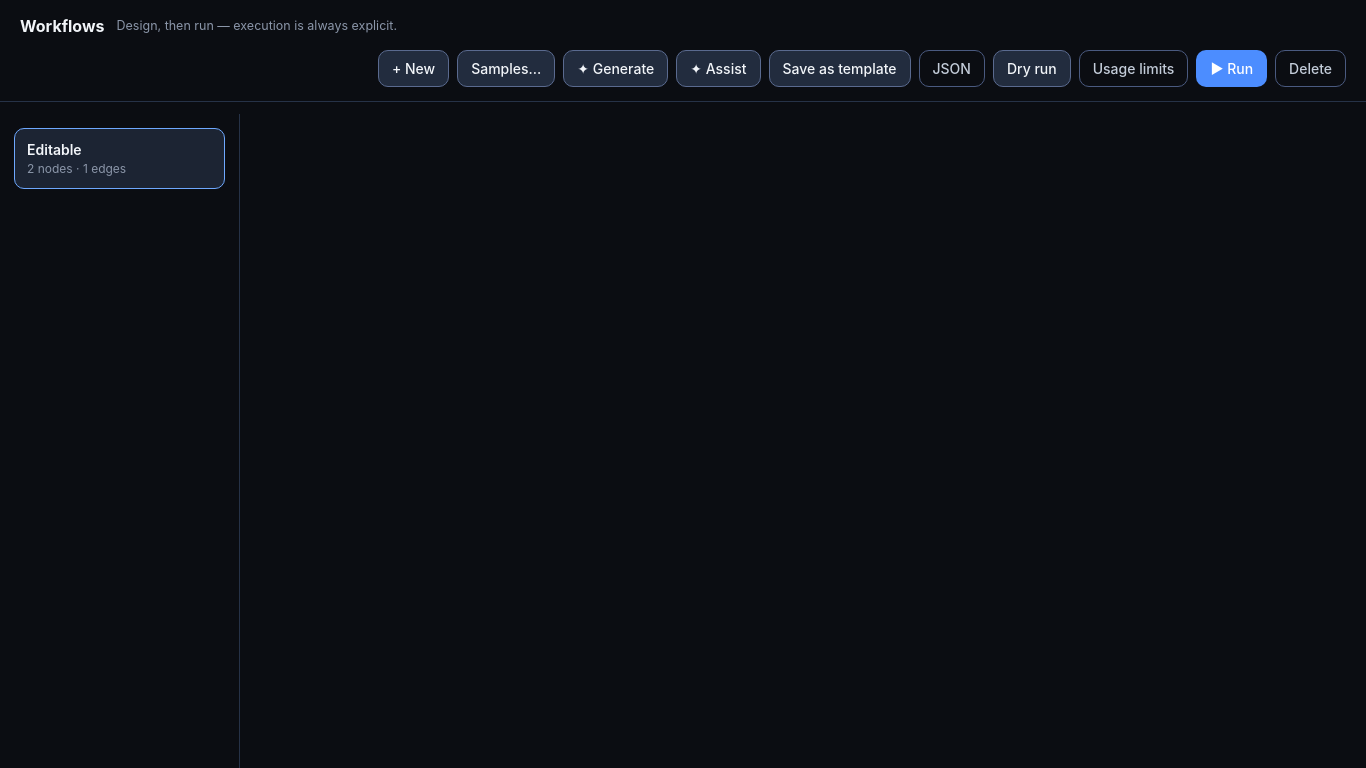
Test: opens simple JSON and preserves the definition through advanced conversion
What coordinates should you click on to do the following:
click the button "JSON"
I would click on:
 (952, 68)
Its box is 918,50 -> 985,87.
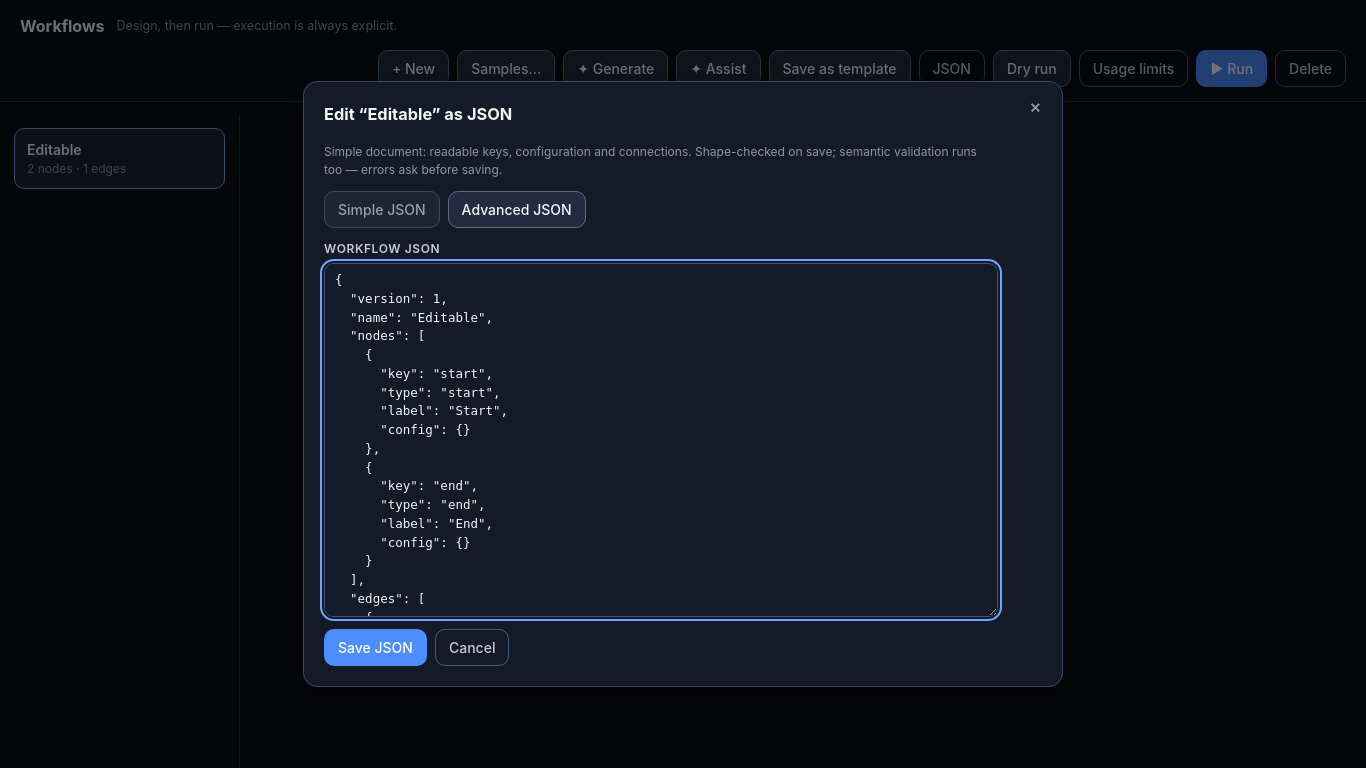
What coordinates should you click on to do the following:
click the button "Advanced JSON"
I would click on:
 (517, 210)
Its box is 448,191 -> 586,228.
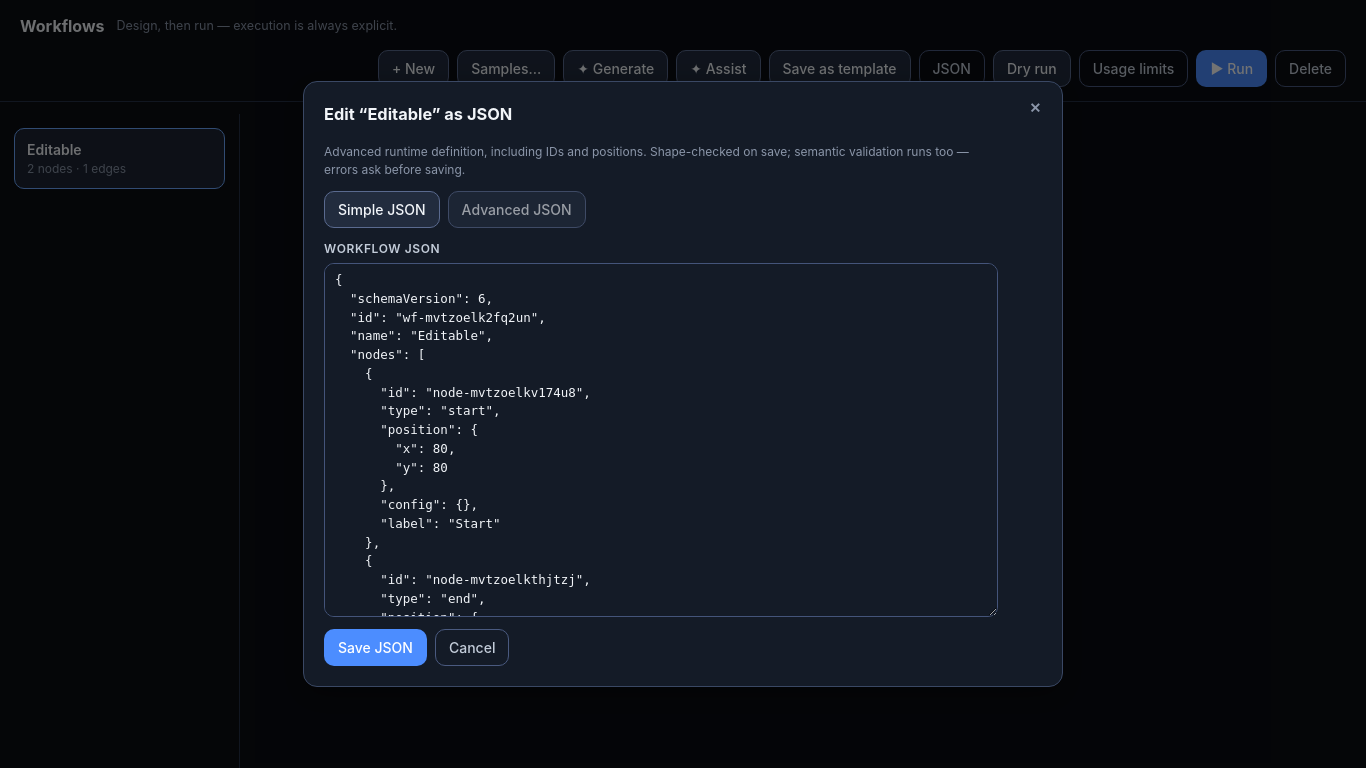
What coordinates should you click on to do the following:
click the button "Save JSON"
I would click on:
 (375, 647)
Its box is 324,629 -> 427,666.
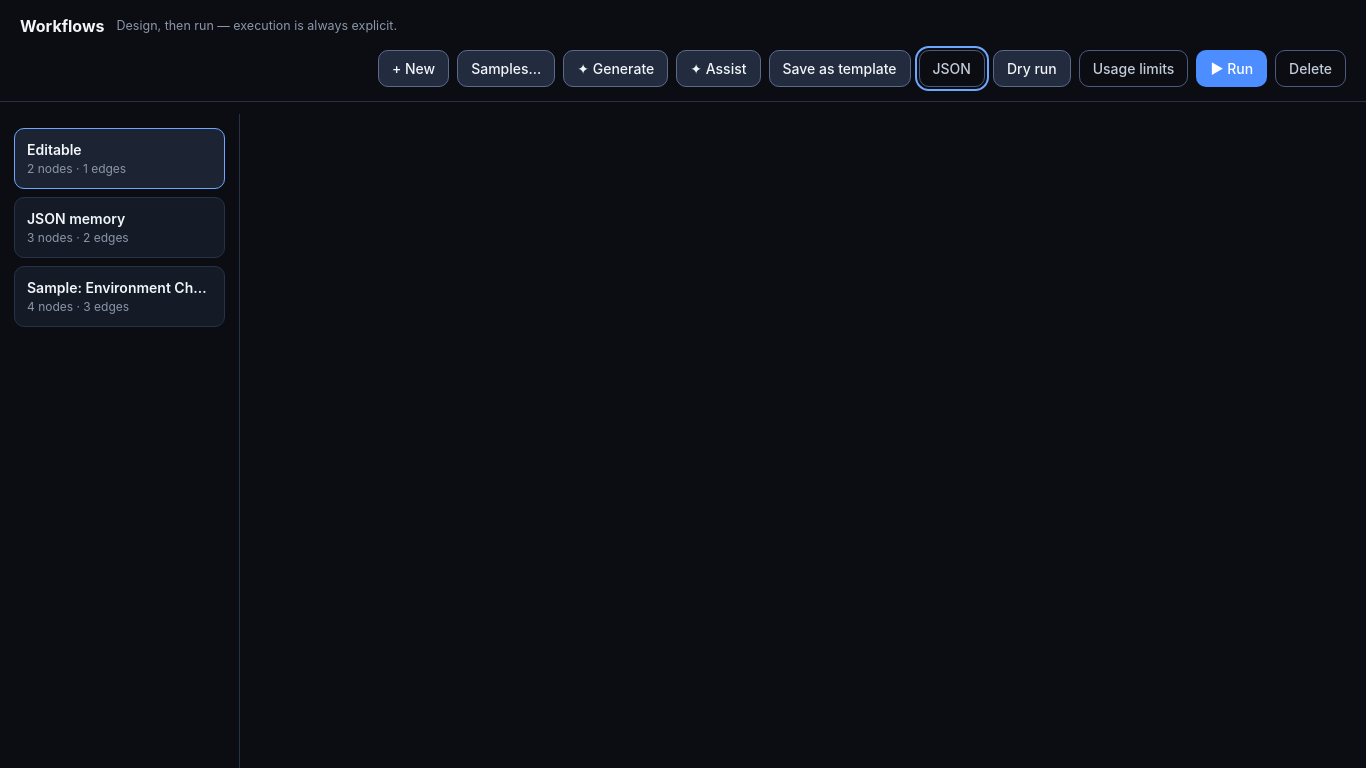
Result: the label labelled "Workflow JSON" is gone
